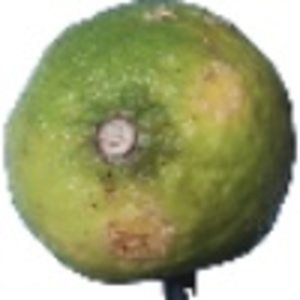limão: (3, 1, 297, 300)
